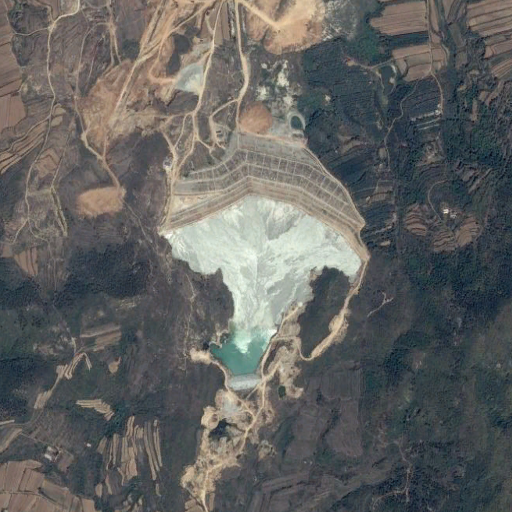tp: (167, 137, 363, 388)
